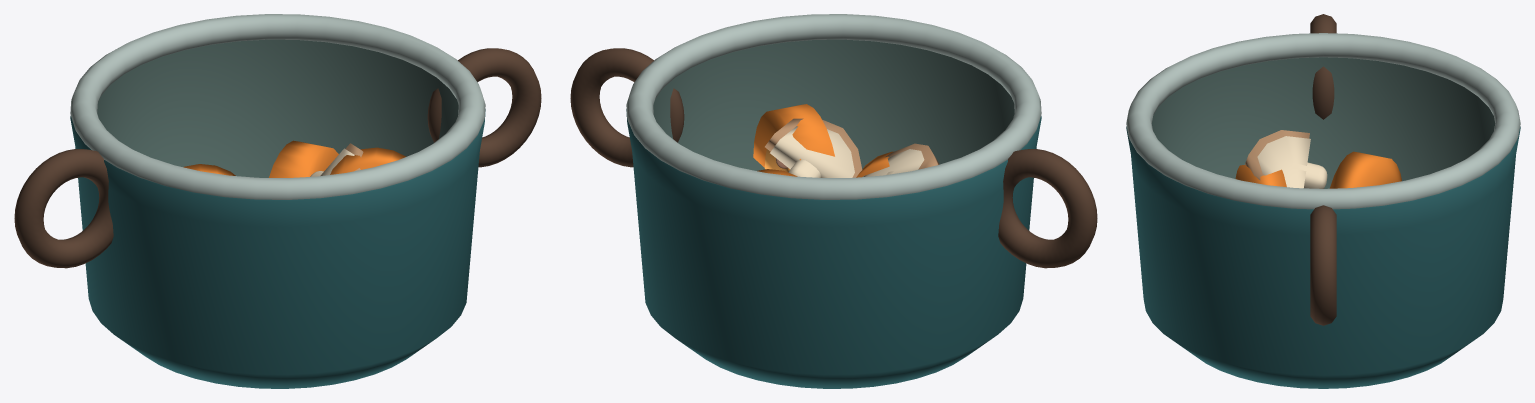
File: pot-both.obj
The picture shows the model from 3 angles, left to right: view 1: azimuth 30°, elevation 25°; view 2: azimuth 150°, elevation 25°; view 3: azimuth 270°, elevation 25°; orthographic projection. The views are drawn at different scales.
Parts seen in each view (by area): view 1: pot-both_teal, pot-both_darkMetal, pot-both_metal, pot-both_cocoa, pot-both_carrot; view 2: pot-both_teal, pot-both_darkMetal, pot-both_metal, pot-both_cocoa, pot-both_mushroomFlesh, pot-both_carrot, pot-both_mushroom; view 3: pot-both_teal, pot-both_darkMetal, pot-both_metal, pot-both_cocoa, pot-both_carrot, pot-both_mushroomFlesh, pot-both_mushroom.
Part boxes in pixels (left/top/right/bottom): pot-both_teal: left=70, top=109, right=485, bottom=388; pot-both_darkMetal: left=97, top=39, right=458, bottom=177; pot-both_metal: left=70, top=14, right=485, bottom=199; pot-both_cocoa: left=14, top=48, right=541, bottom=268; pot-both_carrot: left=183, top=140, right=406, bottom=177; pot-both_teal: left=626, top=109, right=1041, bottom=388; pot-both_darkMetal: left=653, top=39, right=1014, bottom=170; pot-both_metal: left=626, top=14, right=1041, bottom=199; pot-both_cocoa: left=570, top=48, right=1097, bottom=268; pot-both_mushroomFlesh: left=770, top=126, right=924, bottom=177; pot-both_carrot: left=753, top=104, right=893, bottom=177; pot-both_mushroom: left=765, top=118, right=939, bottom=177; pot-both_teal: left=1126, top=126, right=1520, bottom=388; pot-both_darkMetal: left=1151, top=57, right=1495, bottom=188; pot-both_metal: left=1126, top=33, right=1520, bottom=209; pot-both_cocoa: left=1310, top=14, right=1336, bottom=325; pot-both_carrot: left=1235, top=151, right=1401, bottom=188; pot-both_mushroomFlesh: left=1257, top=136, right=1327, bottom=188; pot-both_mushroom: left=1244, top=130, right=1309, bottom=180.
Bounding box in the file's own units: 0.494 × 0.2045 × 0.34.
